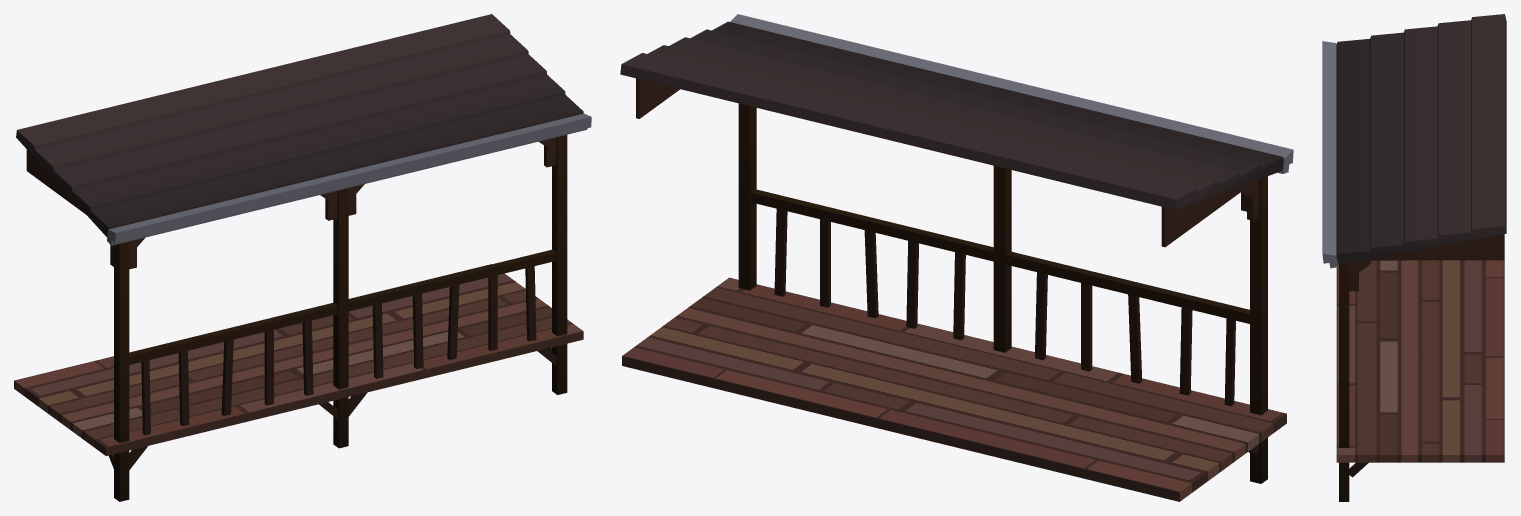
Rendered from Deck 6M v02.glb.
The picture shows the model from 3 angles, left to right: view 1: azimuth 30°, elevation 25°; view 2: azimuth 150°, elevation 25°; view 3: azimuth 270°, elevation 25°; orthographic projection. The views are drawn at different scales.
Visible parts, largest first — view 1: Deck 6M v02; view 2: Deck 6M v02; view 3: Deck 6M v02.
Boxes of the visible parts, left/top/right/bottom form: Deck 6M v02: left=14, top=14, right=591, bottom=501; Deck 6M v02: left=620, top=14, right=1293, bottom=501; Deck 6M v02: left=1322, top=14, right=1506, bottom=501.
Size of what is drawn, in the model's own units: 6.01 by 3.71 by 2.19.
Materials: 2 (2 with a texture image).
